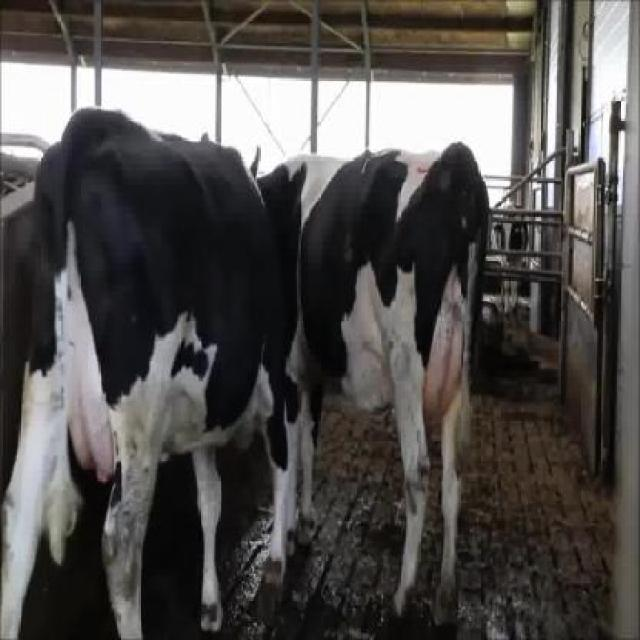Cow: (0, 106, 292, 637), (249, 137, 489, 638)
